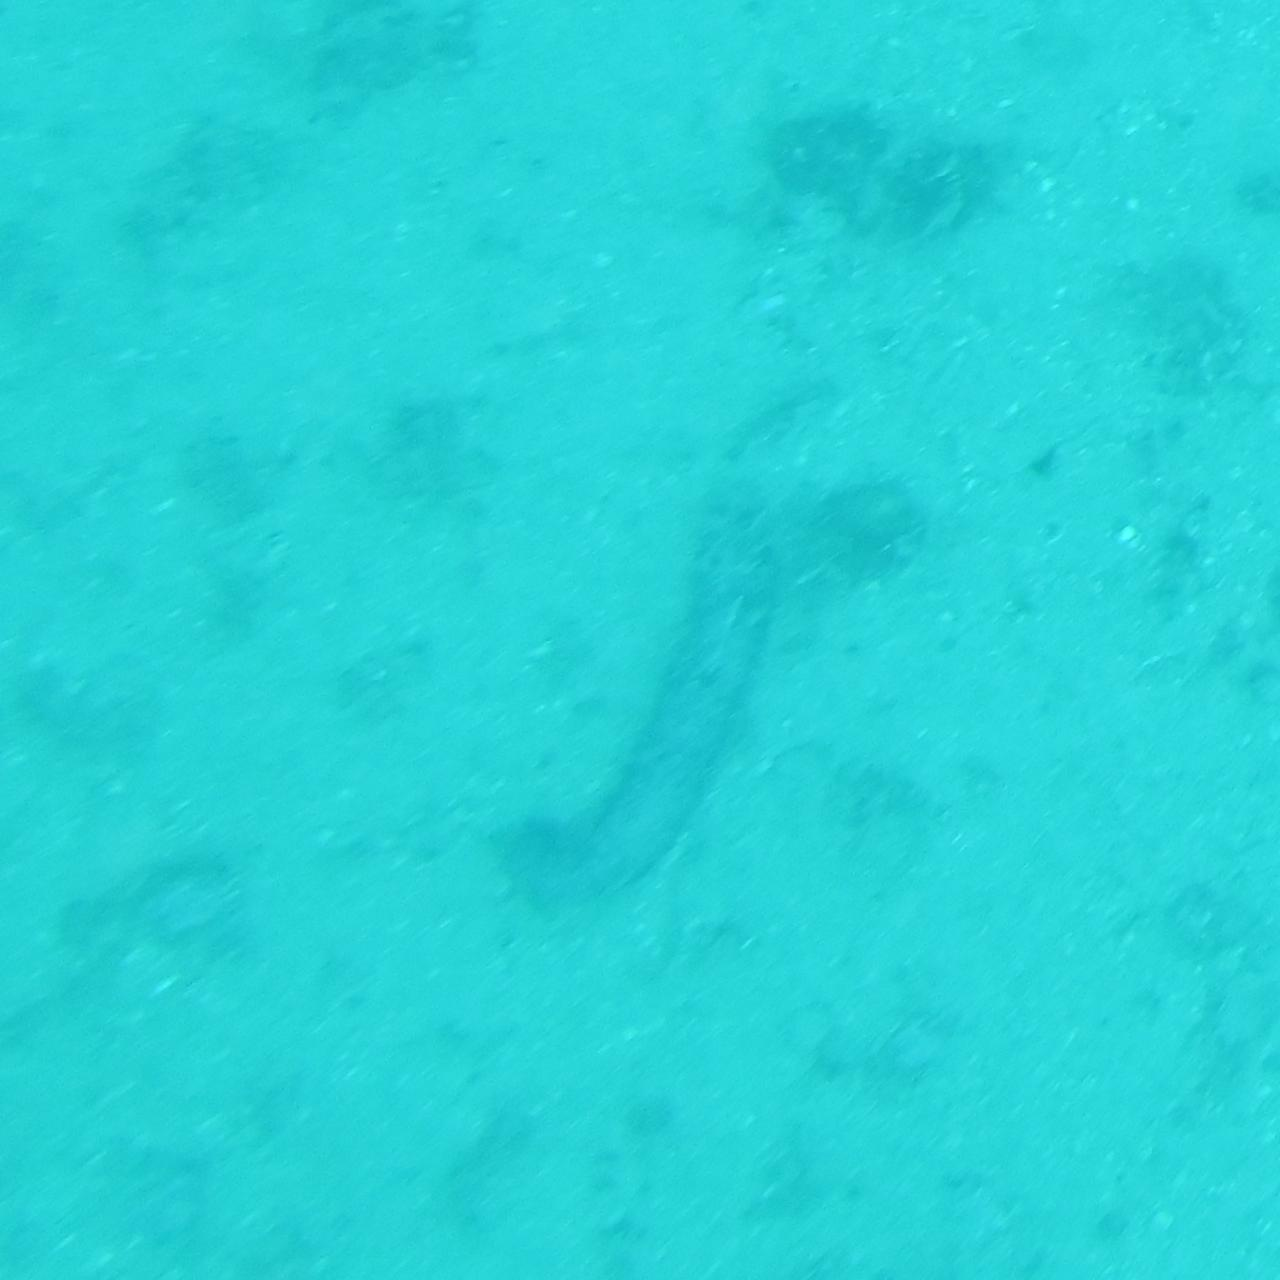Holothuria tubulosa: (486, 505, 794, 923)
